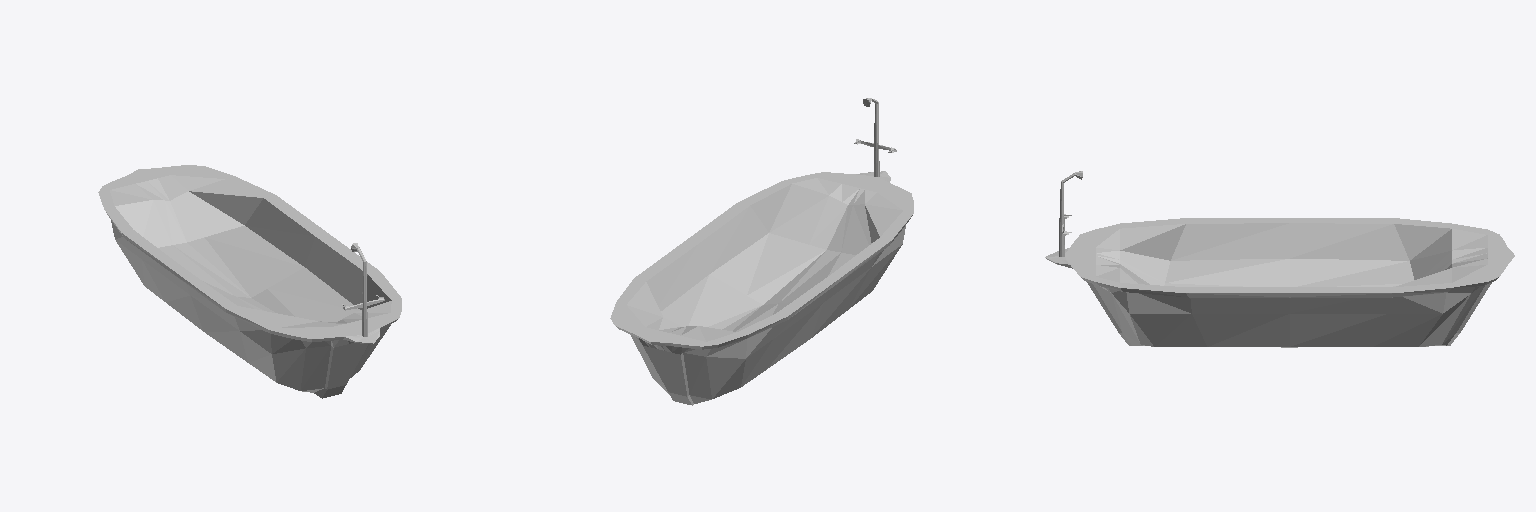
The model's file is tub.obj.
3 renders of one model, left to right at view 1: azimuth 30°, elevation 25°; view 2: azimuth 150°, elevation 25°; view 3: azimuth 270°, elevation 25°, orthographic.
Visible parts, largest first — view 1: pCube1; view 2: pCube1; view 3: pCube1.
Boxes of the visible parts, x1,y1,x2,y2 form: pCube1: [98, 165, 401, 398]; pCube1: [610, 98, 913, 405]; pCube1: [1045, 171, 1514, 347].
Size of the model in its own units: 2.02 by 2.12 by 5.32.